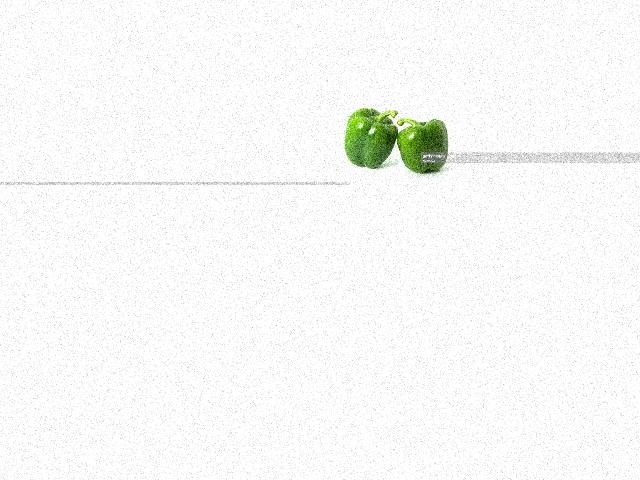bell_pepper: (344, 104, 396, 177)
